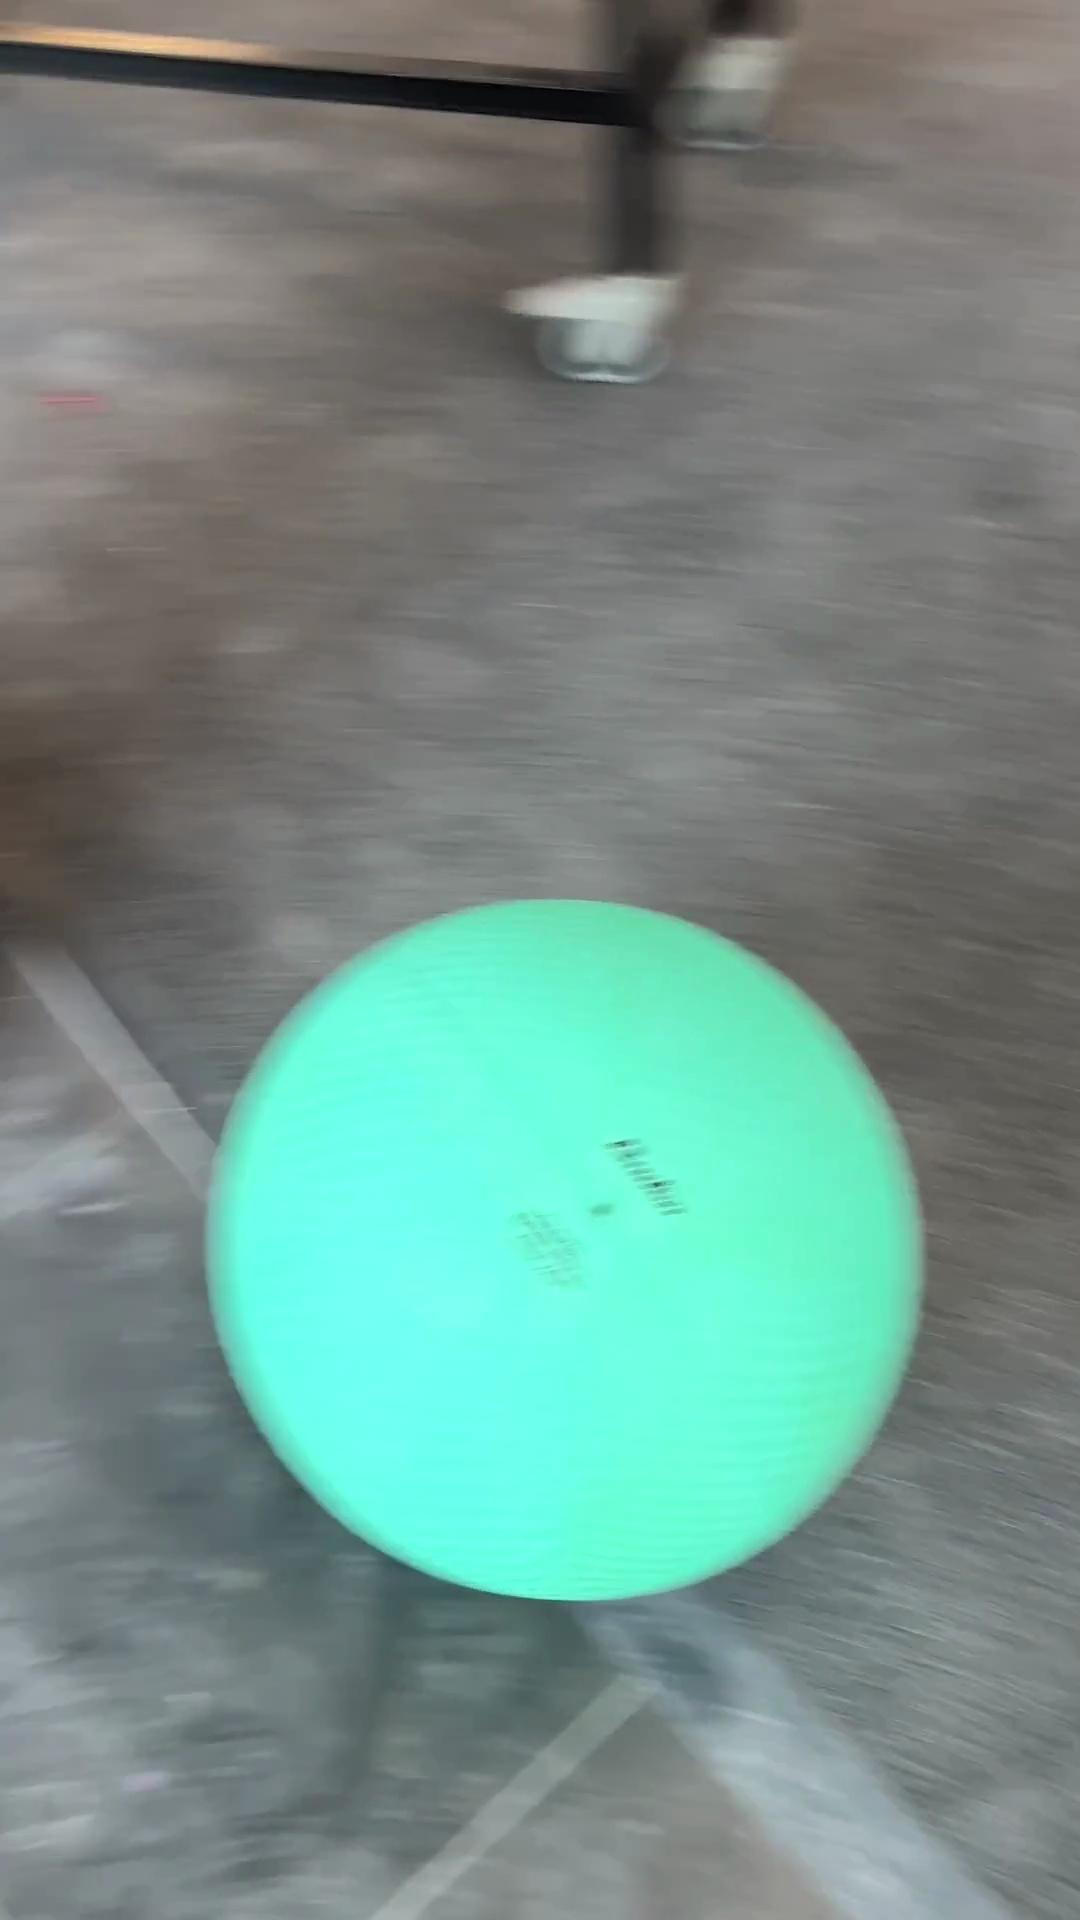ALGAE: (201, 893, 926, 1605)
